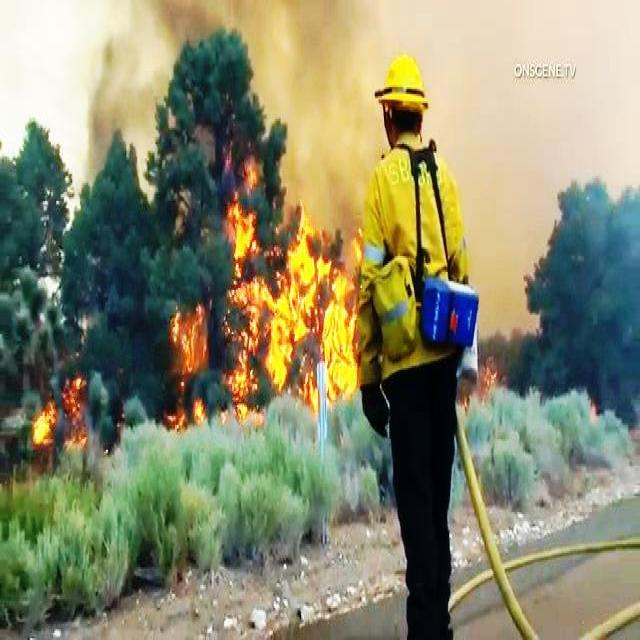Fire: (238, 190, 352, 384), (158, 320, 210, 432), (28, 396, 58, 460)
Smoke: (258, 0, 366, 121), (75, 37, 150, 128)
